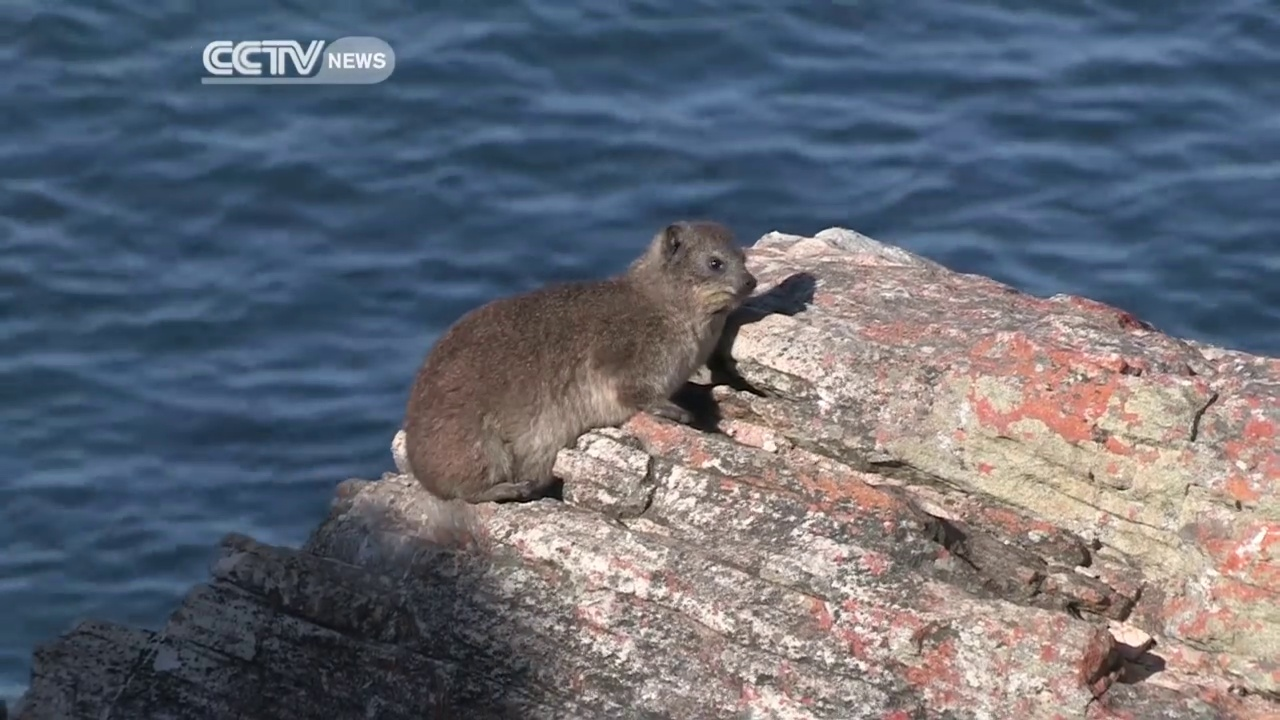Rock Hyrex: (403, 220, 758, 501)
